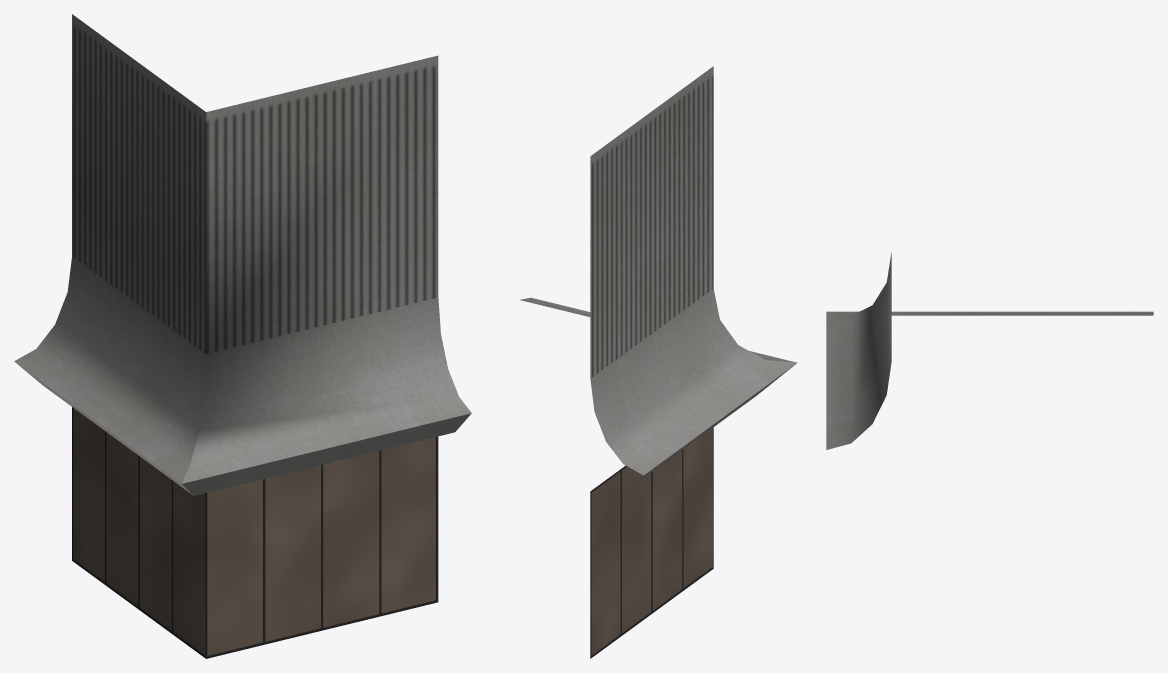
File: corner.gltf
3 renders of one model, left to right at view 1: azimuth 30°, elevation 25°; view 2: azimuth 150°, elevation 25°; view 3: azimuth 270°, elevation 25°, orthographic. The views are drawn at different scales.
Visible parts, largest first — view 1: corner; view 2: corner; view 3: corner.
Boxes of the visible parts, x1=… form: corner: x1=14, y1=14, x2=471, y2=658; corner: x1=520, y1=66, x2=797, y2=658; corner: x1=826, y1=252, x2=1153, y2=449.
Size of the model in its own units: 5 by 9 by 5.
Materials: 3 (3 with a texture image).
